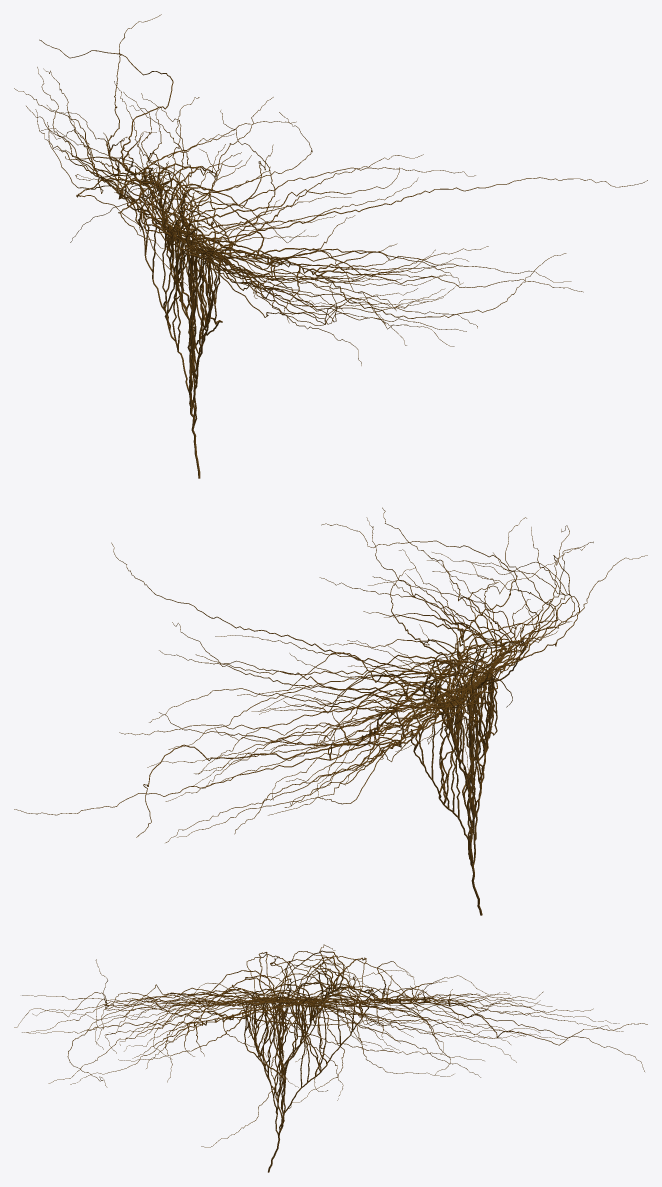
Rendered from vines.fbx.
3 views of the same model, one above another, from view 1: azimuth 30°, elevation 25°; view 2: azimuth 150°, elevation 25°; view 3: azimuth 270°, elevation 25° (orthographic). The views are drawn at different scales.
Parts seen in each view (by area): view 1: IVY_Curve; view 2: IVY_Curve; view 3: IVY_Curve.
Boxes of the visible parts, <box> form: IVY_Curve: <box>14,14,647,478</box>; IVY_Curve: <box>14,507,647,915</box>; IVY_Curve: <box>14,944,647,1172</box>.
Size of the model in its own units: 120 by 70.87 by 186.
